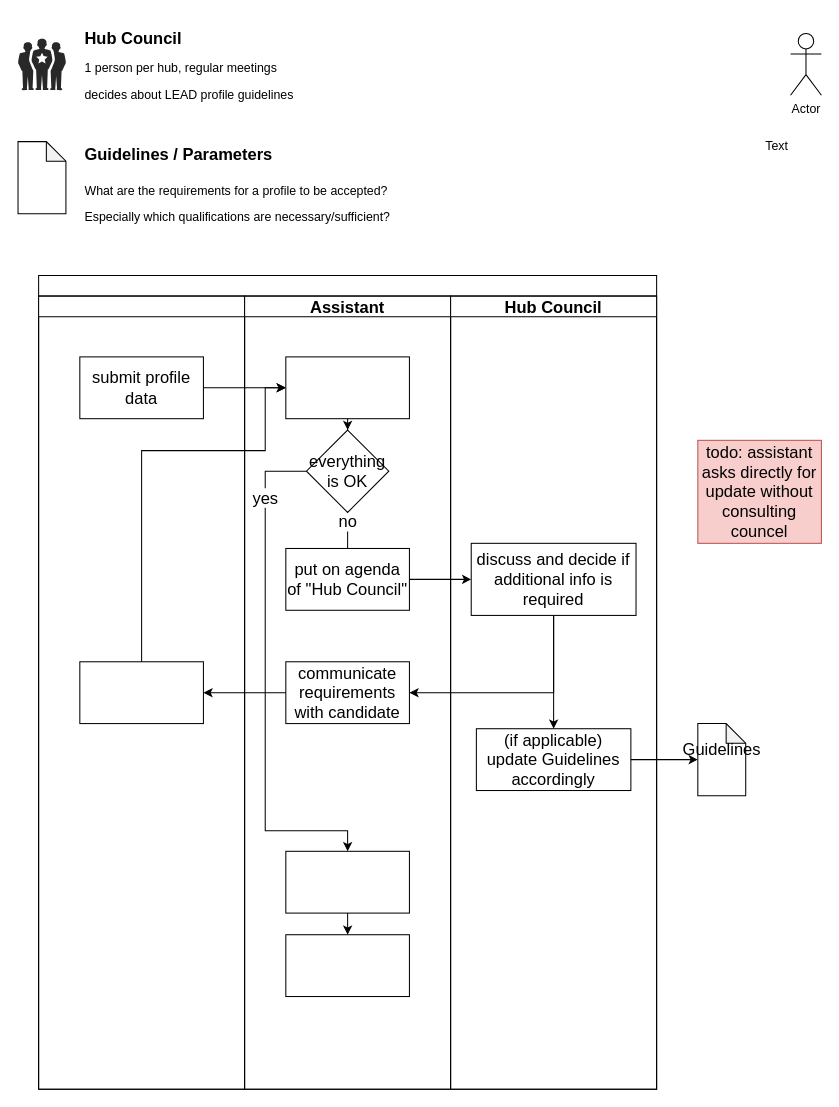
Image size: 839x1107. Some labels were removed from this diagram. The shapes that lost their labels are listed below. From the top down, each one's box as (x1, y1, x2, y2) in pixels, then its label:
(285, 356, 409, 419): check data (according to guidelines)
(79, 661, 203, 724): update profile issue
(38, 295, 245, 1089): LEAD candidate
(38, 274, 657, 1089): New Profile / Profile change
(285, 850, 409, 913): upload data to LEAD
(285, 934, 409, 997): inform council about new profile
